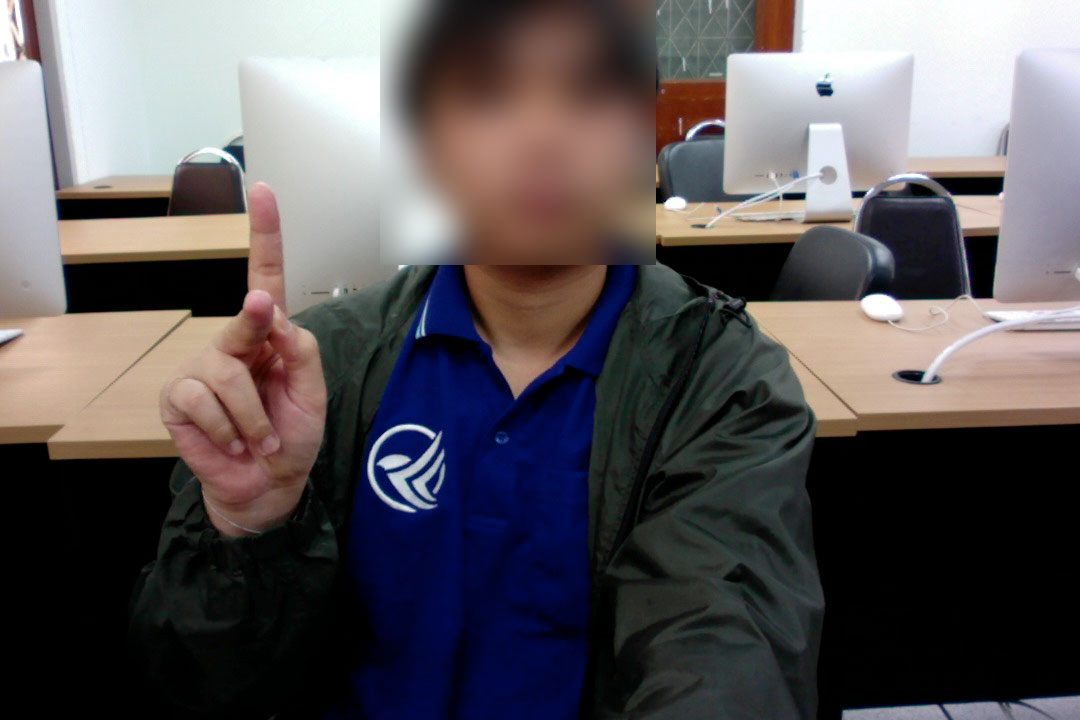ko: (153, 173, 332, 525)
